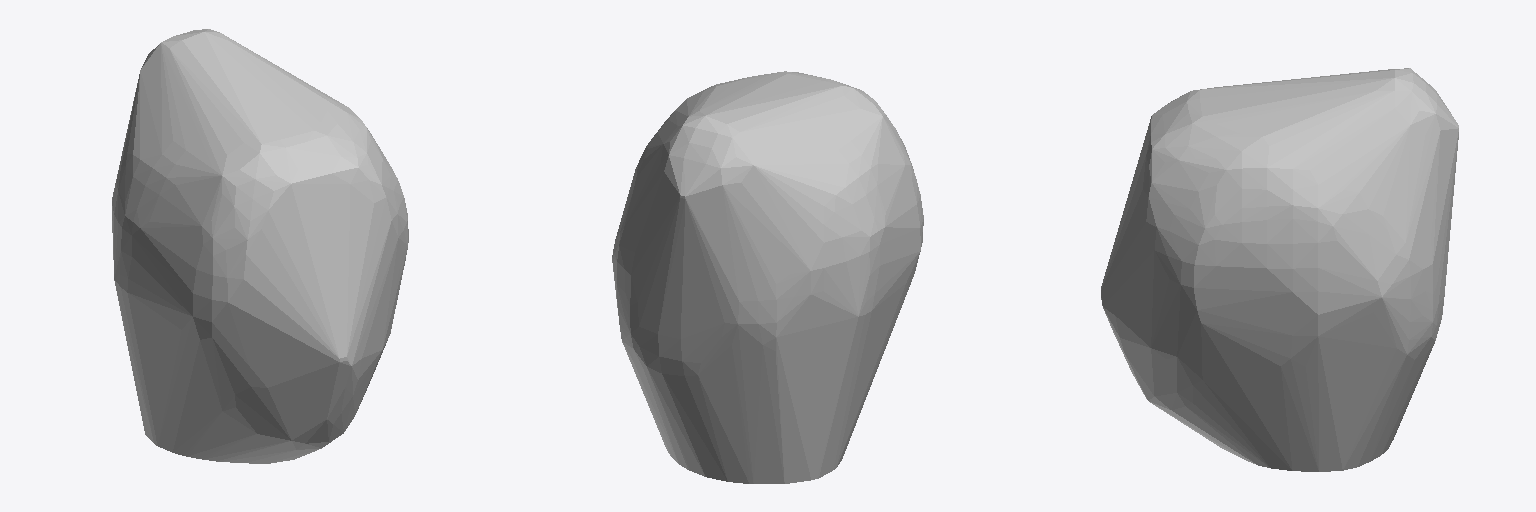
File: woman_collision_5.obj
3 renders of one model, left to right at view 1: azimuth 30°, elevation 25°; view 2: azimuth 150°, elevation 25°; view 3: azimuth 270°, elevation 25°, orthographic.
Bounding box in the file's own units: 19.63 × 28.67 × 25.75.